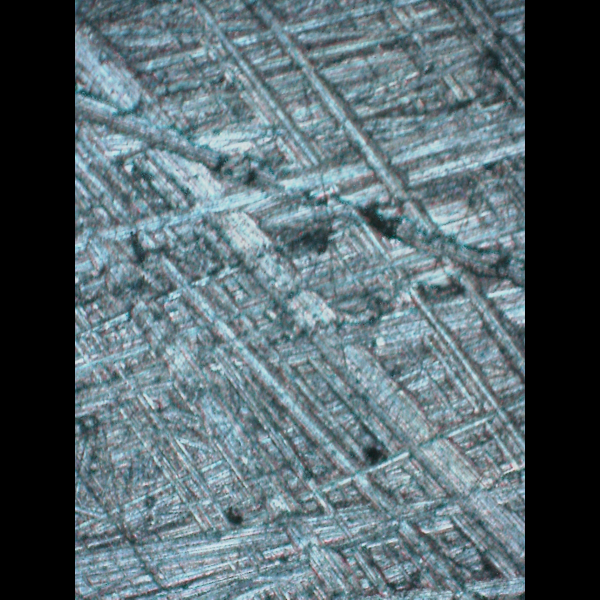d: (83, 0, 525, 502)
